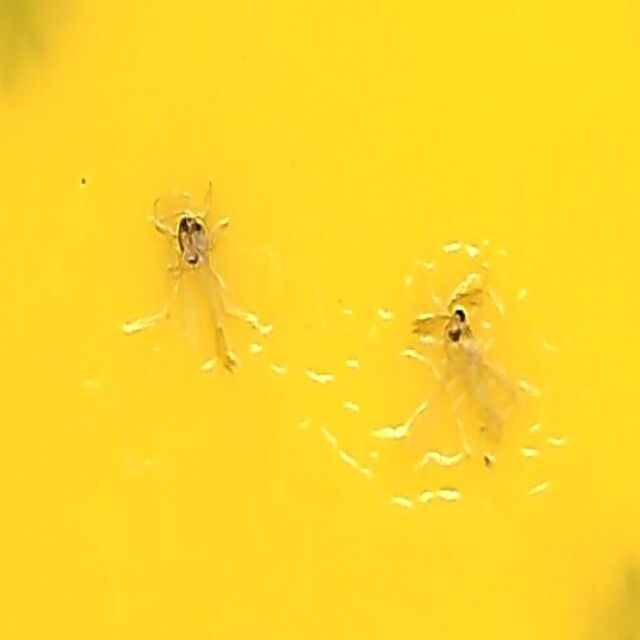Nematocera: (116, 180, 257, 398), (407, 276, 524, 460)
